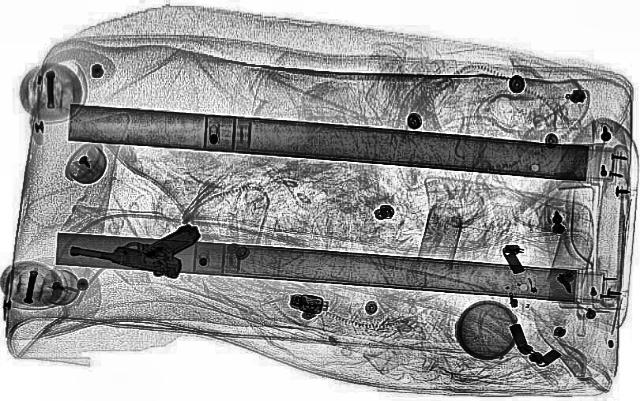Gun: (68, 224, 198, 278)
